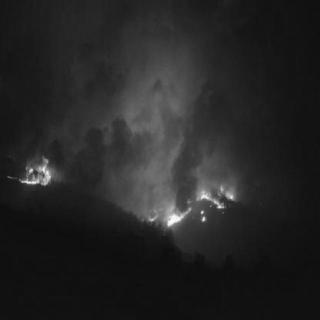Smoke: (54, 121, 146, 193)
